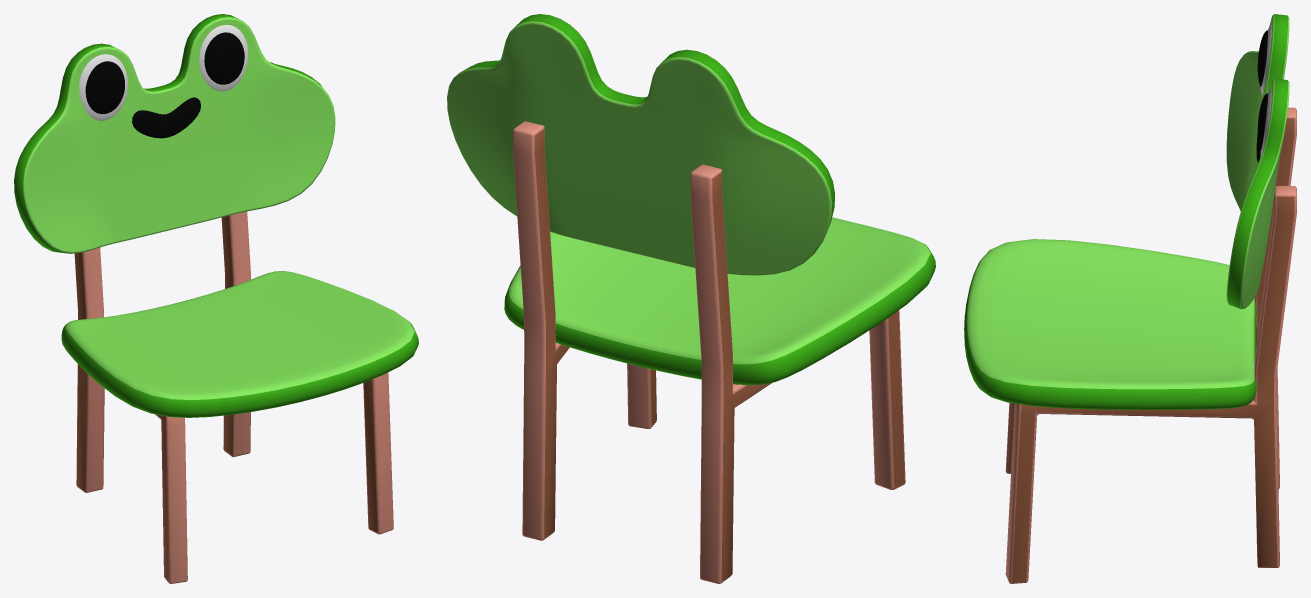
The model's file is Froggy_chair.fbx.
3 renders of one model, left to right at view 1: azimuth 30°, elevation 25°; view 2: azimuth 150°, elevation 25°; view 3: azimuth 270°, elevation 25°, orthographic. The views are drawn at different scales.
Parts seen in each view (by area): view 1: FroggyChair_0; view 2: FroggyChair_0; view 3: FroggyChair_0.
Boxes of the visible parts, left/top/right/bottom form: FroggyChair_0: left=14, top=14, right=418, bottom=583; FroggyChair_0: left=447, top=14, right=935, bottom=583; FroggyChair_0: left=964, top=14, right=1296, bottom=583.
Size of the model in its own units: 0.035 by 0.0457 by 0.029.
